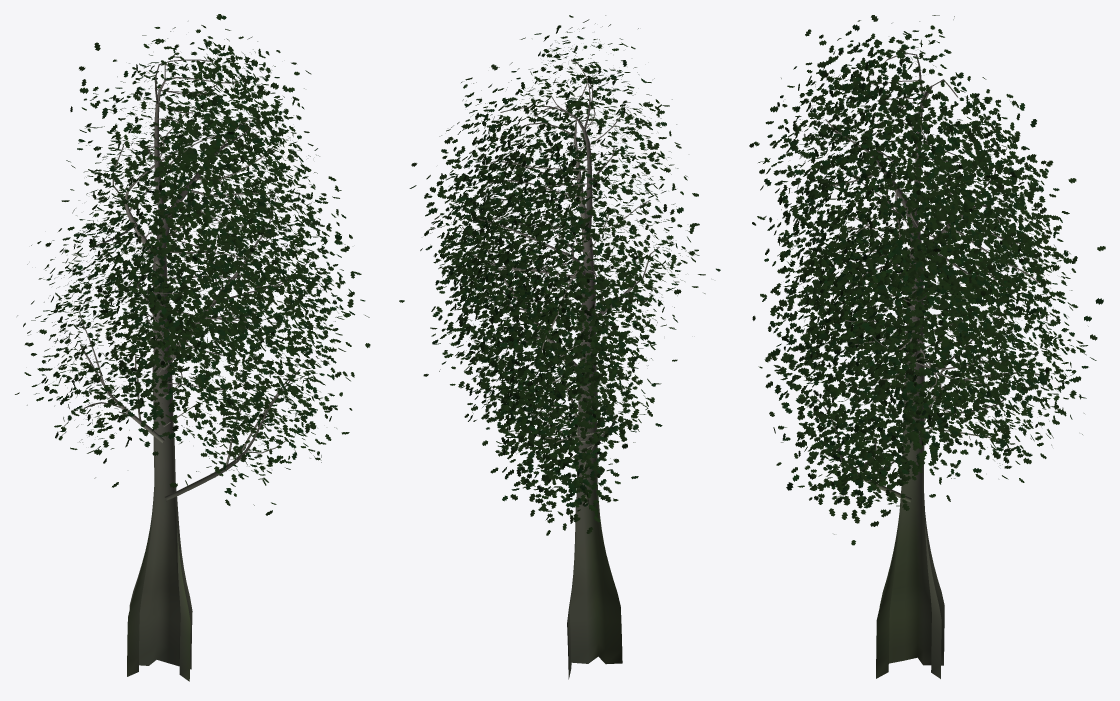
Rendered from SM_Tree_holly_0.glb.
3 views of the same model, side by side, from view 1: azimuth 30°, elevation 25°; view 2: azimuth 150°, elevation 25°; view 3: azimuth 270°, elevation 25° (orthographic). The views are drawn at different scales.
Parts seen in each view (by area): view 1: SM_Tree_holly_0; view 2: SM_Tree_holly_0; view 3: SM_Tree_holly_0.
Part boxes in pixels (x1,y1,x2,y2): SM_Tree_holly_0: (15, 14, 370, 681); SM_Tree_holly_0: (399, 15, 720, 679); SM_Tree_holly_0: (749, 15, 1105, 678).
Bounding box in the file's own units: 3.49 × 8.07 × 3.89.
